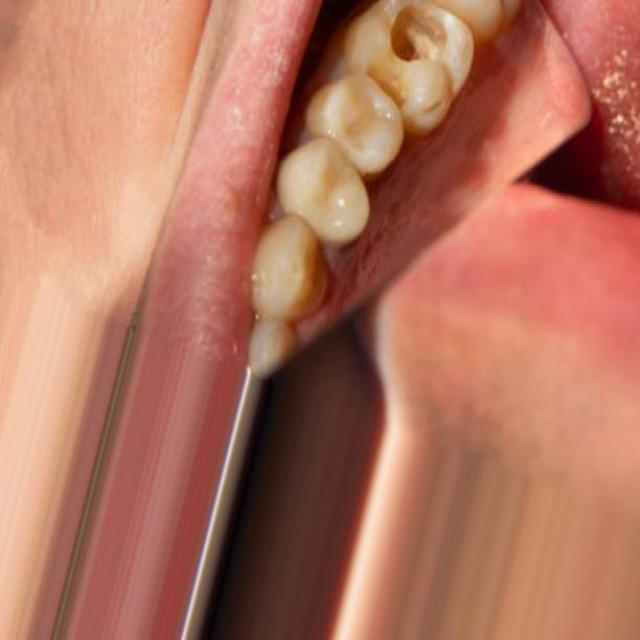caries: (359, 0, 455, 116)
